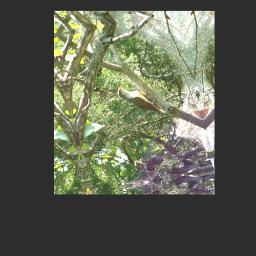Cuckoo: (115, 75, 179, 130)
